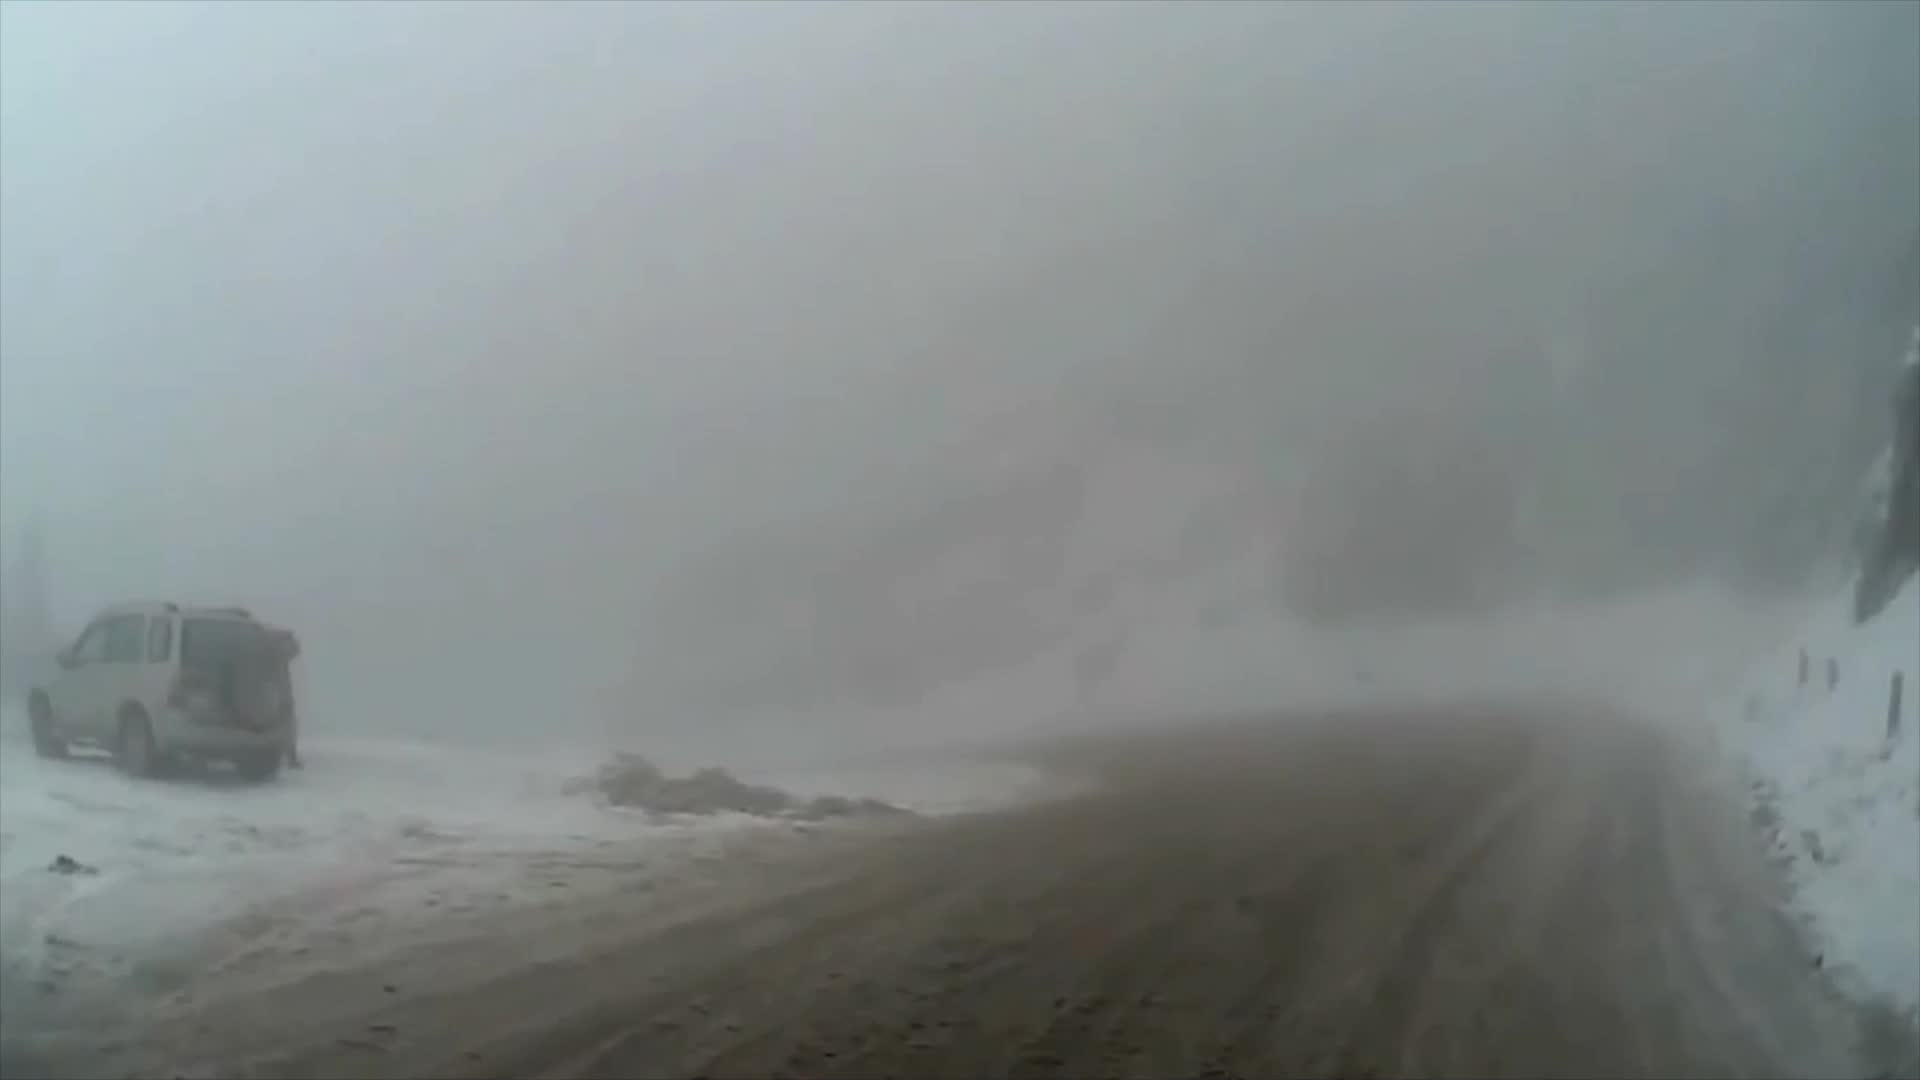vehicle: (24, 599, 282, 785)
